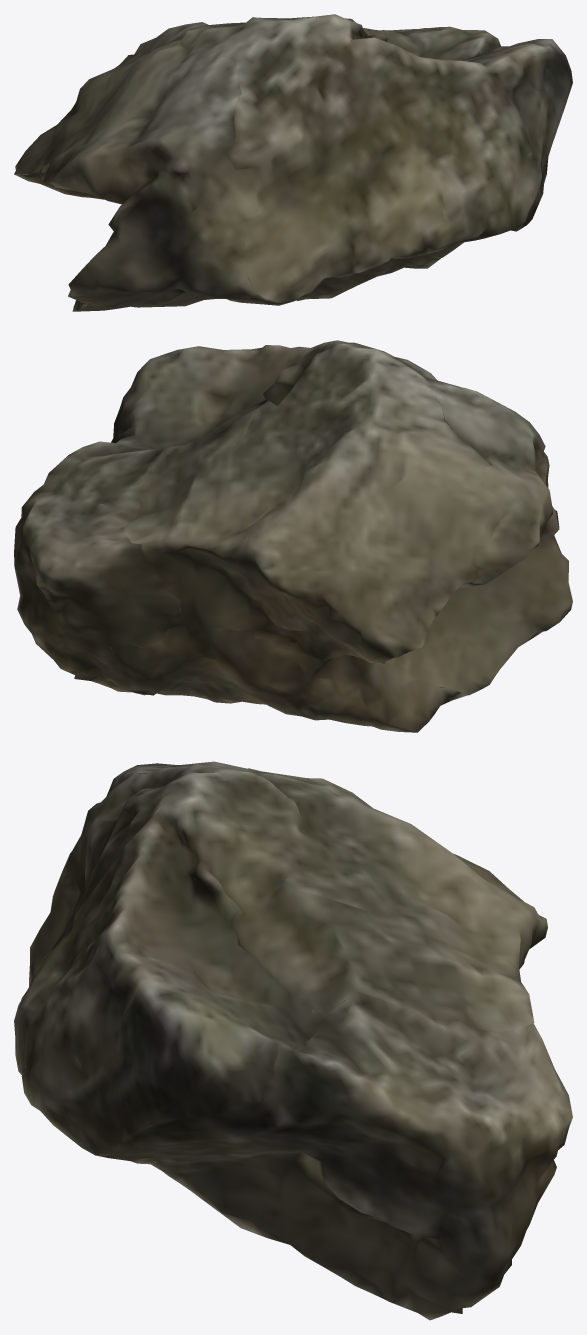
Rendered from rock_moss_set_02_b.gltf.lod.glb.
The picture shows the model from 3 angles, top to bottom: view 1: azimuth 30°, elevation 25°; view 2: azimuth 150°, elevation 25°; view 3: azimuth 270°, elevation 25°; orthographic projection. The views are drawn at different scales.
Parts seen in each view (by area): view 1: rock_moss_set_02_rock11; view 2: rock_moss_set_02_rock11; view 3: rock_moss_set_02_rock11.
Part boxes in pixels (left/top/right/bottom): rock_moss_set_02_rock11: left=14, top=14, right=572, bottom=311; rock_moss_set_02_rock11: left=14, top=340, right=572, bottom=732; rock_moss_set_02_rock11: left=14, top=761, right=572, bottom=1320.
Size of the model in its own units: 1.95 by 1.31 by 1.53.
1 material, 1 textured.
